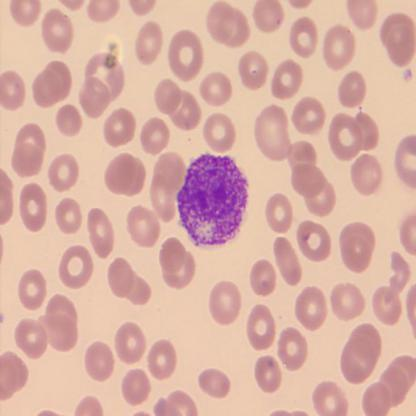Myelocyte: (178, 154, 250, 247)
